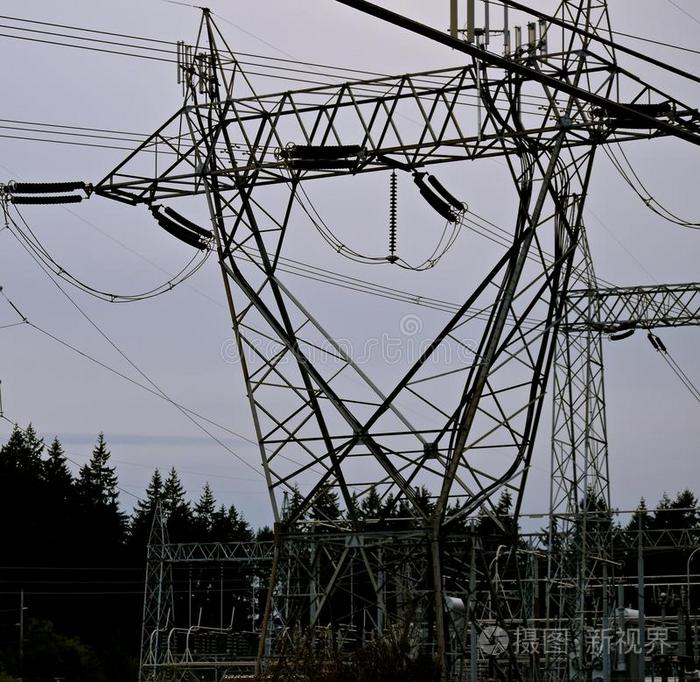insulator: (387, 170, 402, 252)
